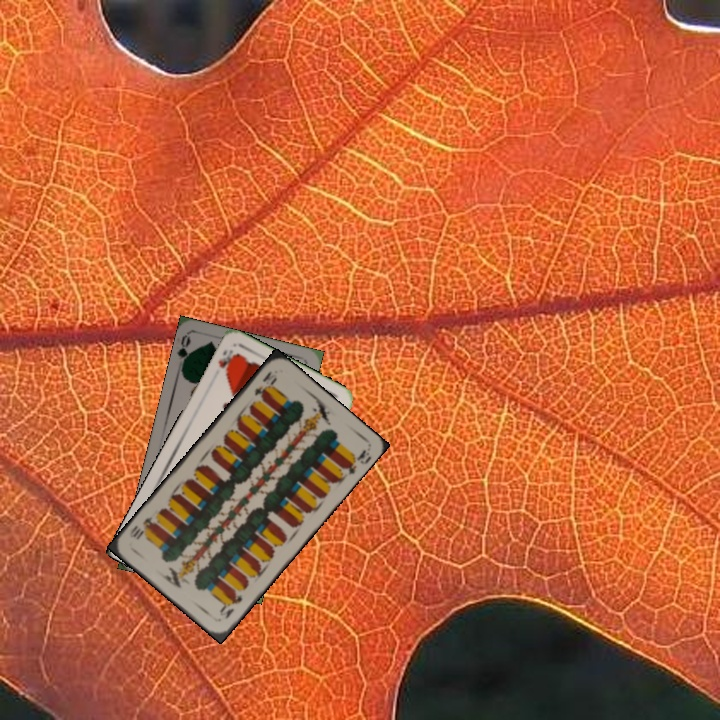E10: (250, 366, 279, 400), (215, 590, 245, 622)
GO: (174, 332, 195, 373)
HO: (214, 345, 239, 374)
